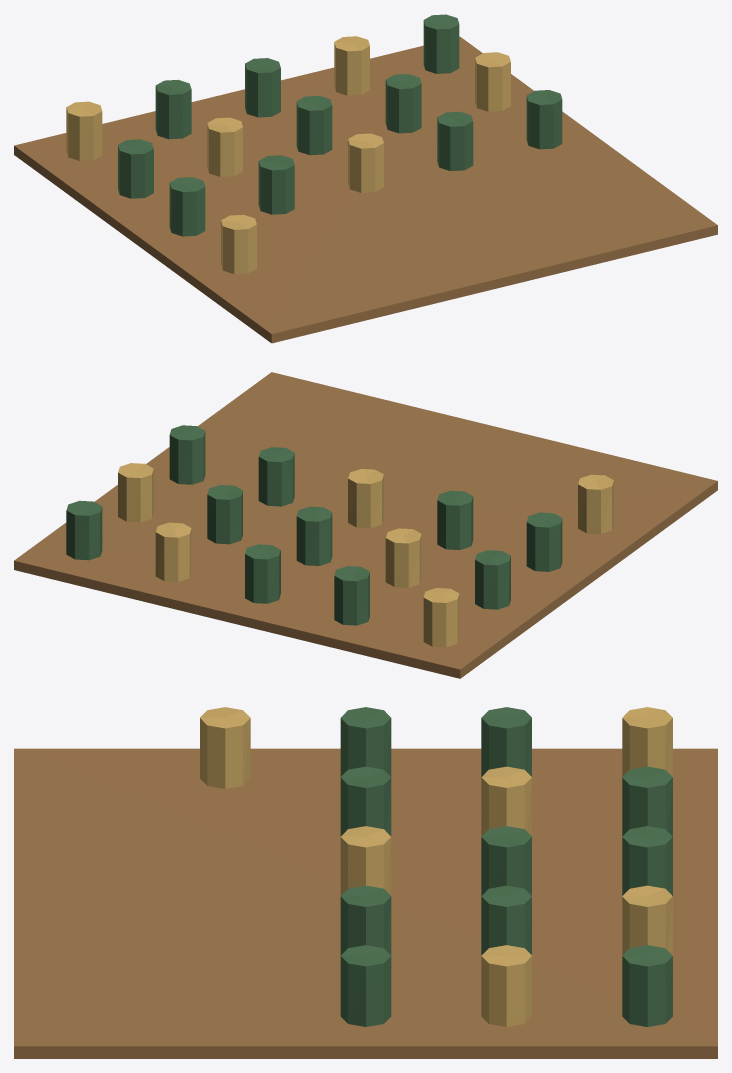
File: Pollinator-garden.glb
3 renders of one model, top to bottom at view 1: azimuth 30°, elevation 25°; view 2: azimuth 150°, elevation 25°; view 3: azimuth 270°, elevation 25°, orthographic. The views are drawn at different scales.
Visible parts, largest first — view 1: pollinator-garden-static-pollinator-garden-earth, pollinator-garden-static-pollinator-garden-leaf, pollinator-garden-static-pollinator-garden-flower; view 2: pollinator-garden-static-pollinator-garden-earth, pollinator-garden-static-pollinator-garden-leaf, pollinator-garden-static-pollinator-garden-flower; view 3: pollinator-garden-static-pollinator-garden-earth, pollinator-garden-static-pollinator-garden-leaf, pollinator-garden-static-pollinator-garden-flower.
Boxes of the visible parts, x1,y1,x2,y2 form: pollinator-garden-static-pollinator-garden-earth: [14, 36, 717, 343]; pollinator-garden-static-pollinator-garden-leaf: [118, 14, 562, 236]; pollinator-garden-static-pollinator-garden-flower: [66, 36, 510, 274]; pollinator-garden-static-pollinator-garden-earth: [14, 372, 717, 678]; pollinator-garden-static-pollinator-garden-leaf: [66, 425, 562, 625]; pollinator-garden-static-pollinator-garden-flower: [118, 463, 613, 647]; pollinator-garden-static-pollinator-garden-earth: [14, 748, 717, 1058]; pollinator-garden-static-pollinator-garden-leaf: [340, 707, 672, 1026]; pollinator-garden-static-pollinator-garden-flower: [200, 707, 672, 1026].
Bounding box in the file's own units: 5 × 0.575 × 5.
